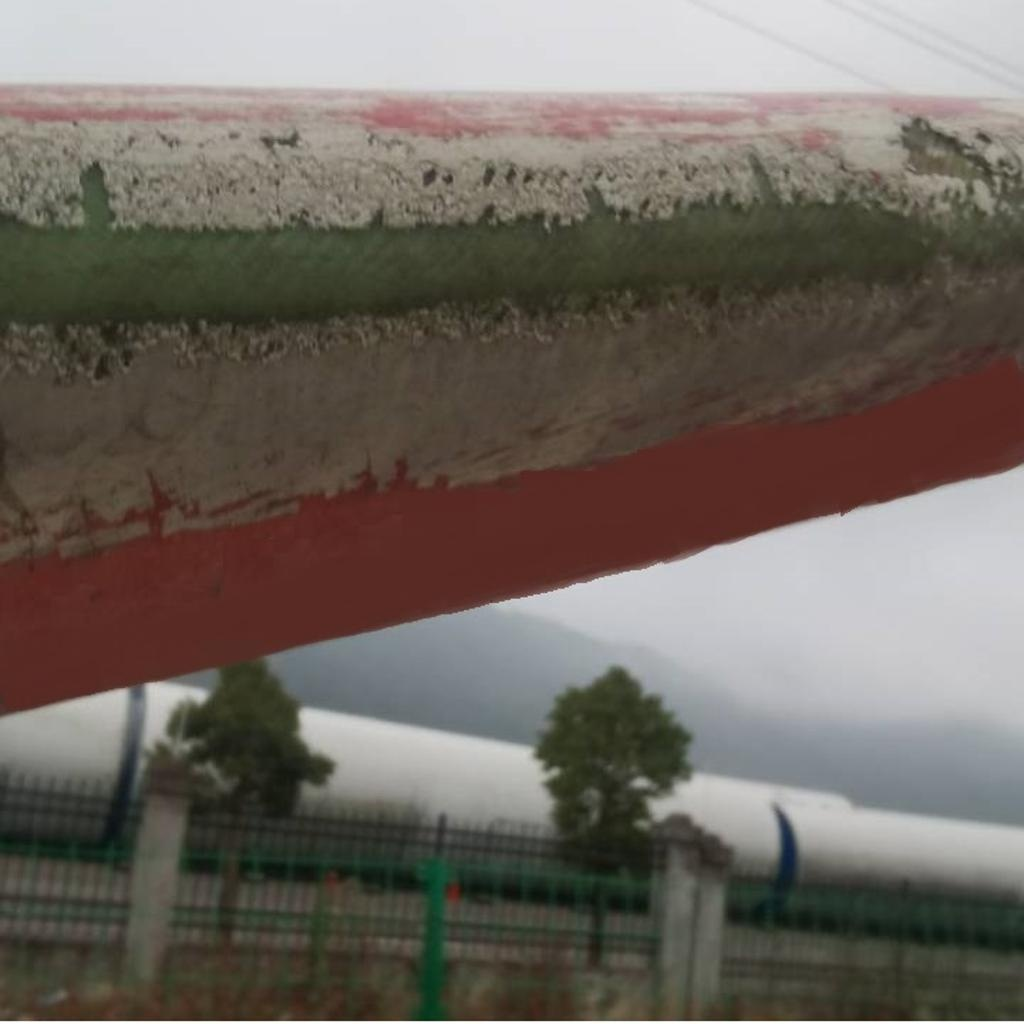corrosion: (8, 122, 1019, 417)
